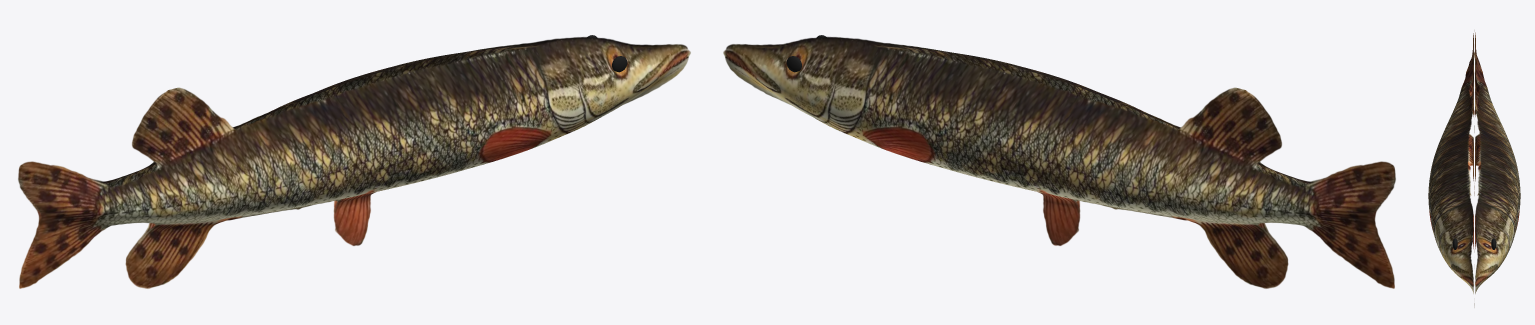
File: brochet.glb
3 views of the same model, side by side, from view 1: azimuth 30°, elevation 25°; view 2: azimuth 150°, elevation 25°; view 3: azimuth 270°, elevation 25° (orthographic). The views are drawn at different scales.
Visible parts, largest first — view 1: brochet; view 2: brochet; view 3: brochet.
Boxes of the visible parts, box(x1,y1,x2,y2) form: brochet: box(18, 37, 690, 288); brochet: box(723, 37, 1395, 288); brochet: box(1428, 30, 1520, 307).
Bounding box in the file's own units: 1 × 0.2903 × 0.1735.
Materials: 2 (1 with a texture image).
